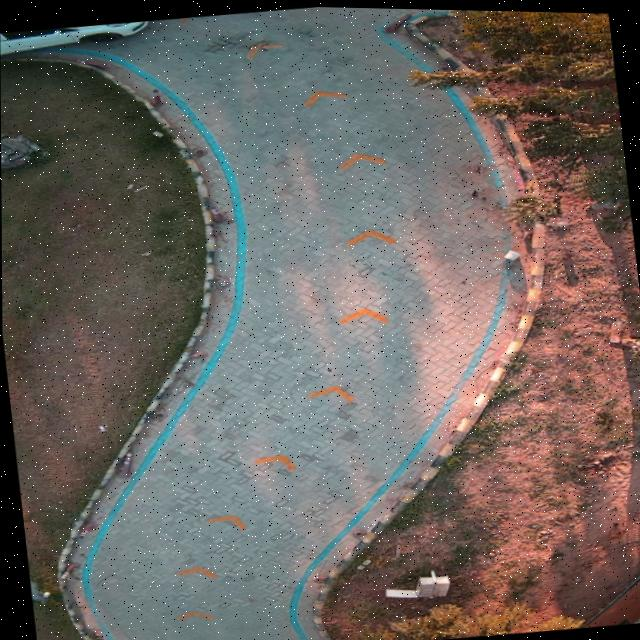car: (0, 20, 147, 55)
